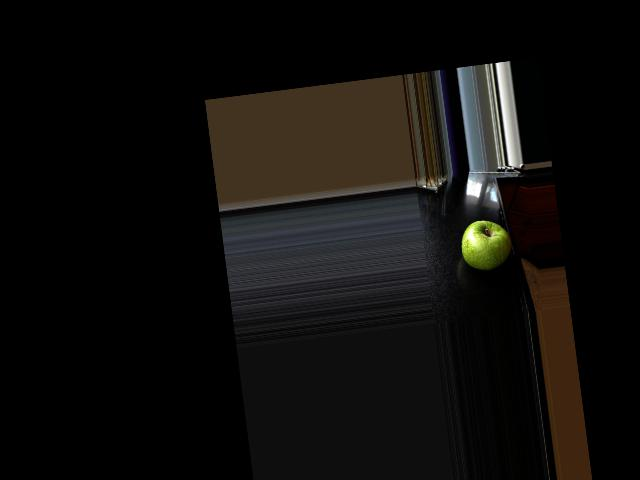apple: (455, 214, 515, 276)
